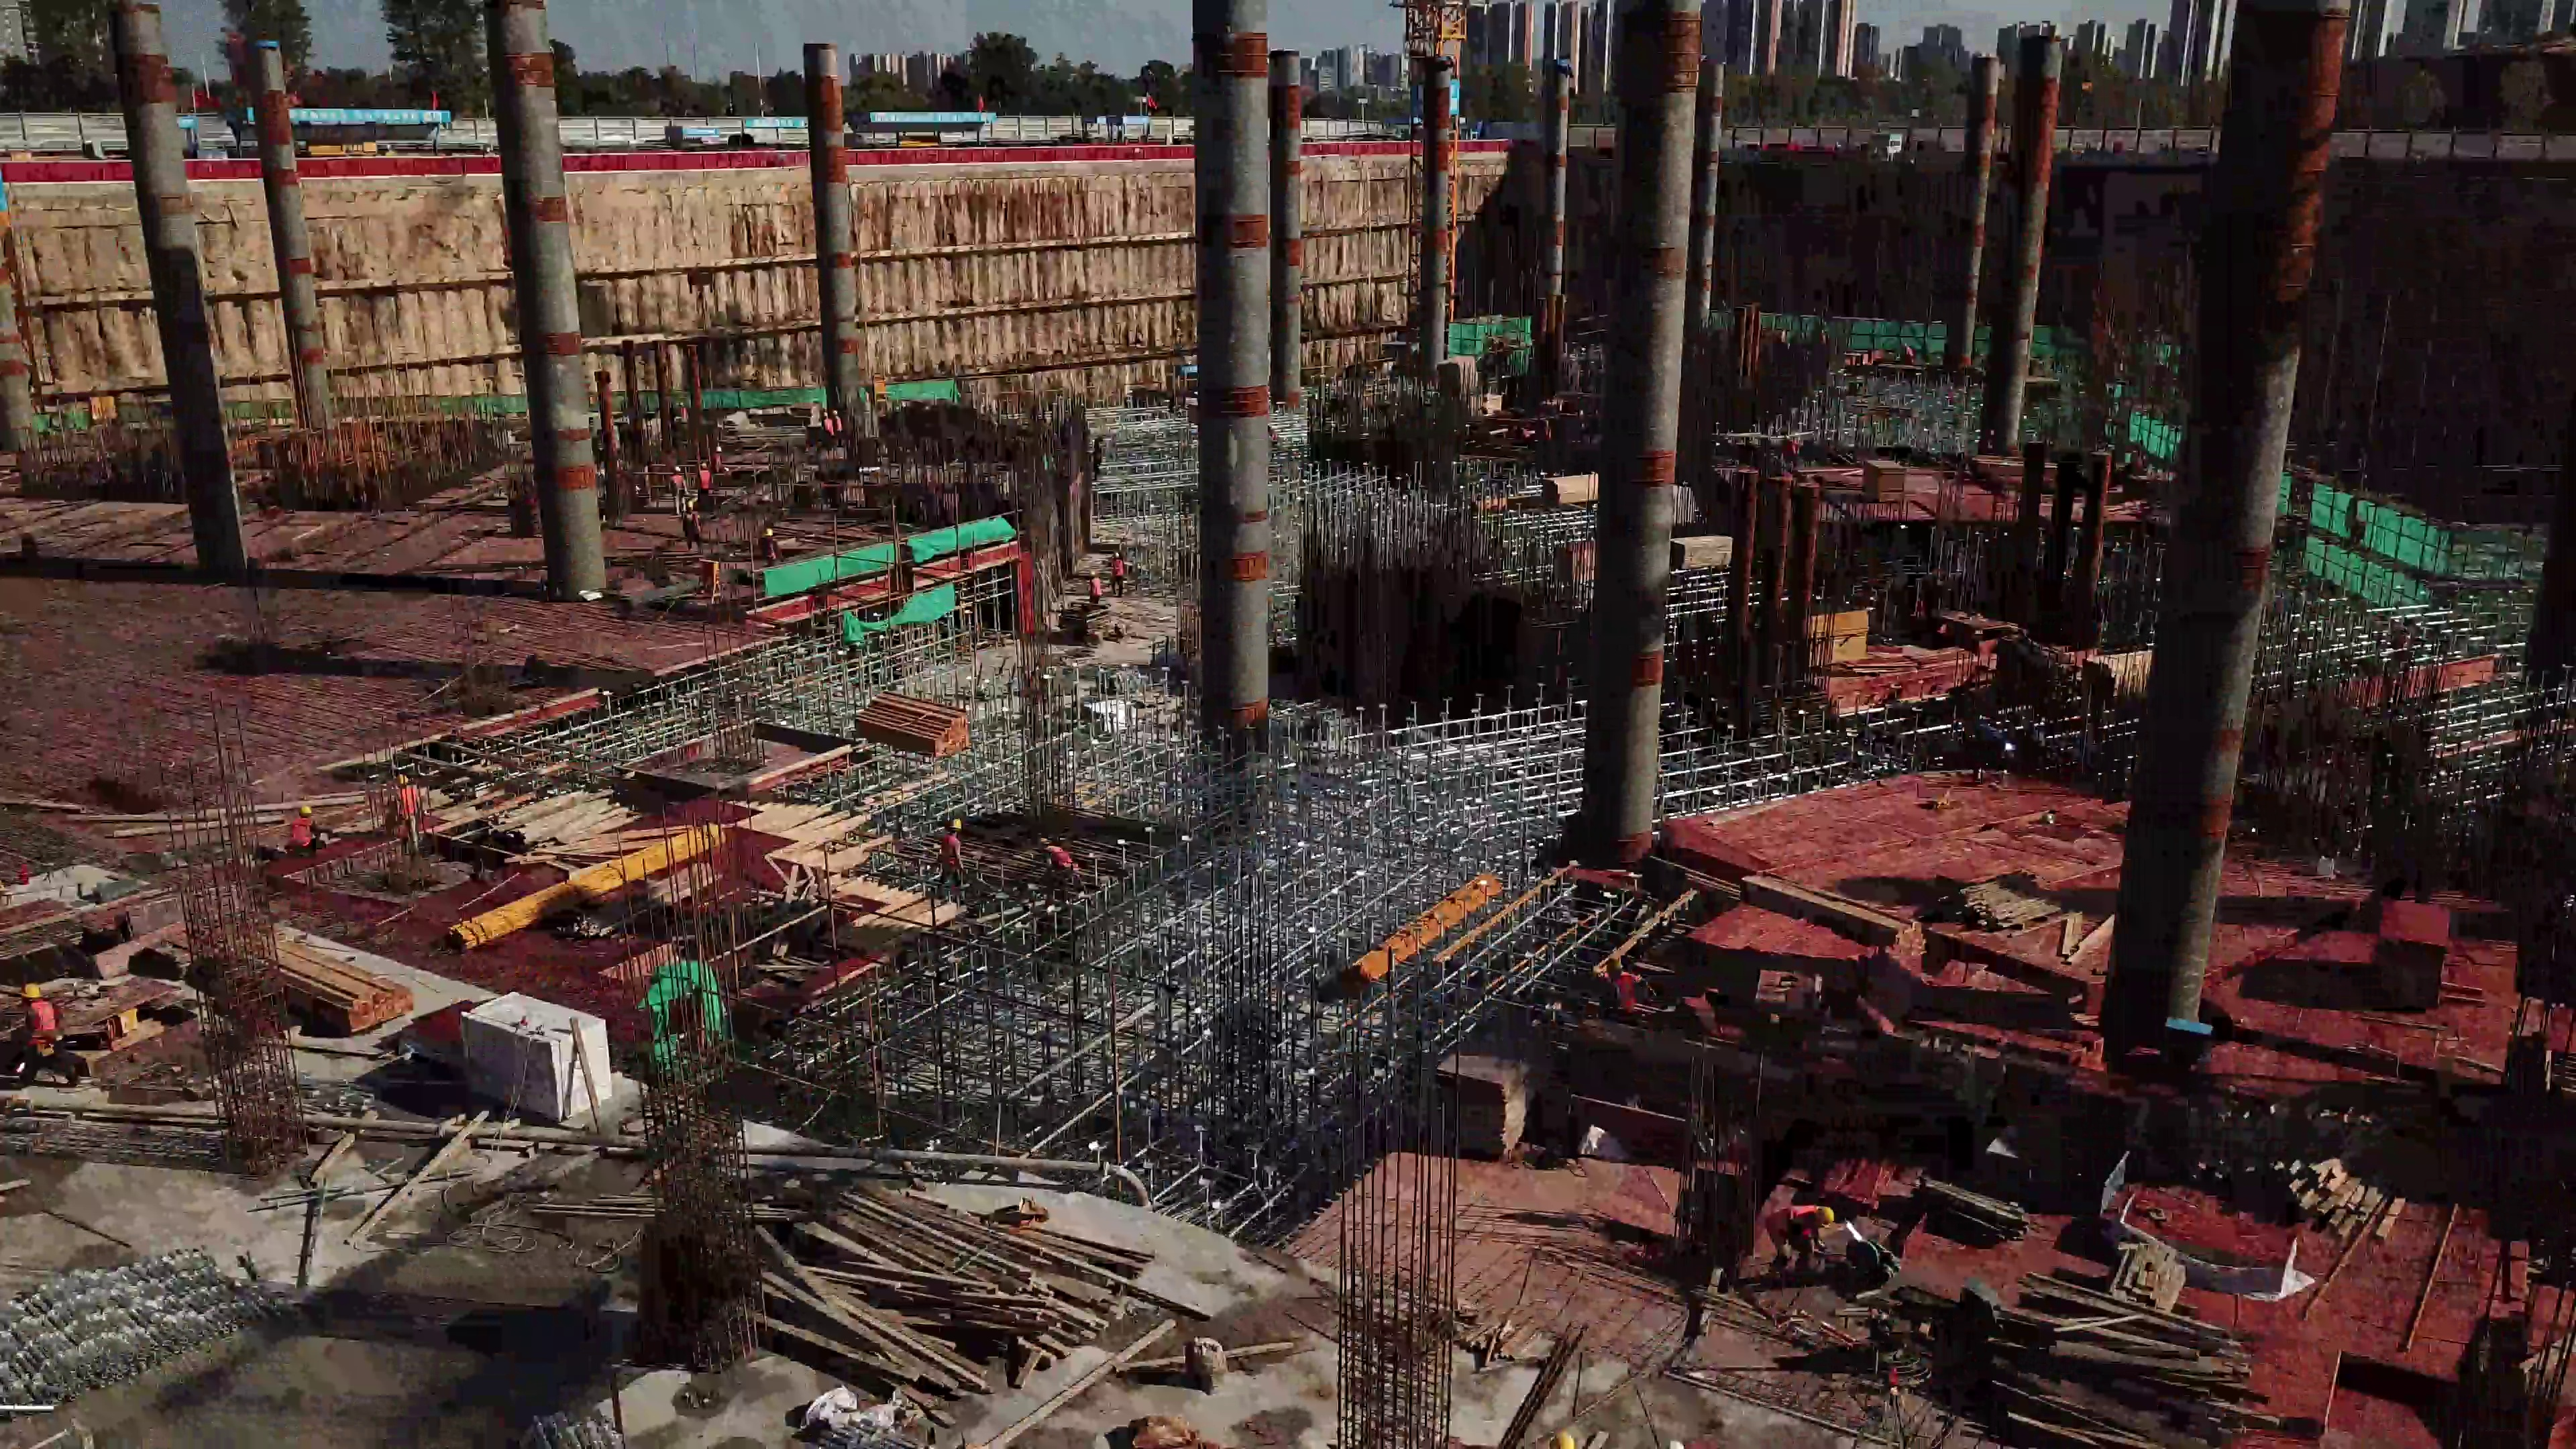helmet: (1817, 1198, 1835, 1230), (947, 816, 968, 838), (1606, 953, 1627, 975), (395, 771, 409, 790), (296, 806, 314, 816)
person: (17, 978, 82, 1090), (1764, 1197, 1837, 1273), (1605, 955, 1649, 1016), (392, 769, 424, 838), (1037, 835, 1080, 885), (938, 813, 963, 888), (288, 804, 324, 857), (818, 406, 843, 447), (1112, 547, 1127, 597), (1087, 570, 1106, 608), (671, 462, 686, 508), (697, 459, 712, 503)
wood: (665, 1157, 1164, 1387), (1979, 1265, 2279, 1449), (169, 918, 420, 1034), (855, 682, 974, 755)
